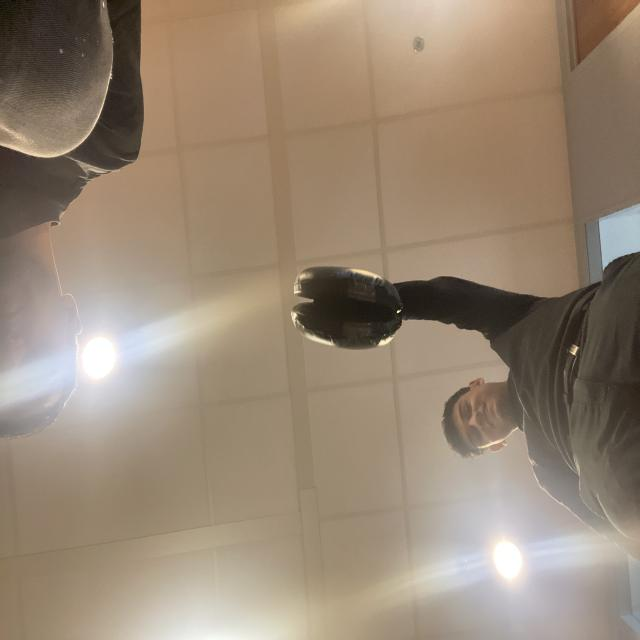paddle: (296, 259, 398, 342)
